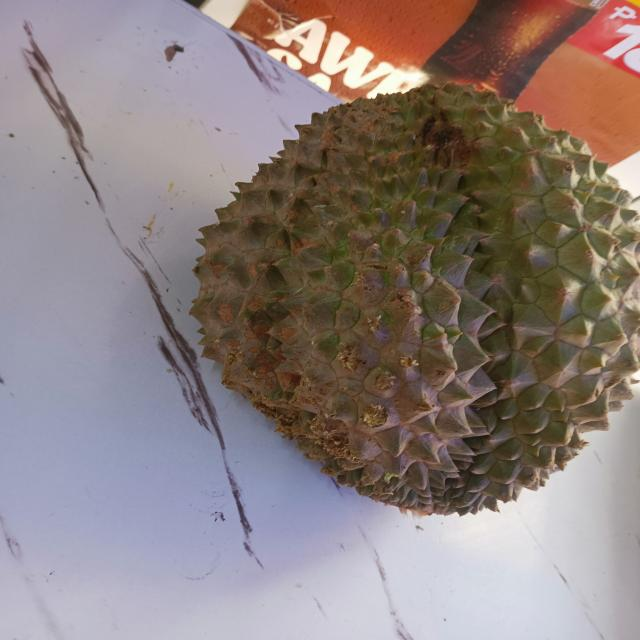mature: (191, 84, 640, 514)
